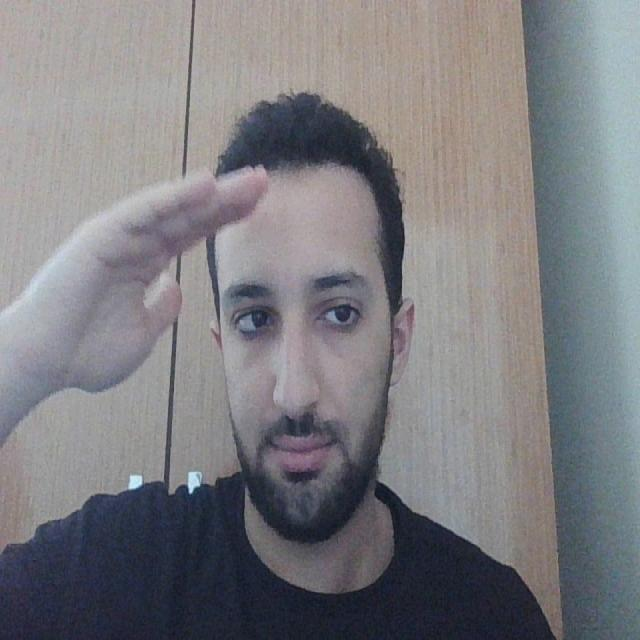Merhaba: (29, 144, 278, 457)
